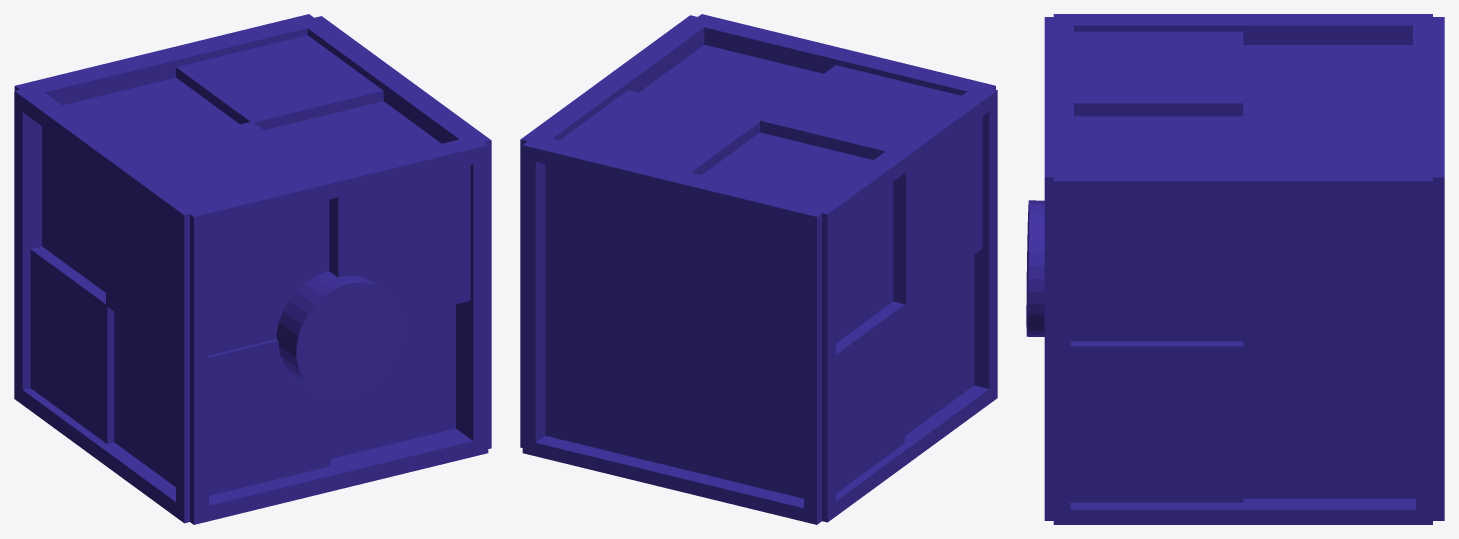
The model's file is SpaceCube.gltf.
3 views of the same model, side by side, from view 1: azimuth 30°, elevation 25°; view 2: azimuth 150°, elevation 25°; view 3: azimuth 270°, elevation 25° (orthographic). The views are drawn at different scales.
Parts seen in each view (by area): view 1: Cube; view 2: Cube; view 3: Cube.
Part boxes in pixels (x1,y1,x2,y2): Cube: [14, 14, 491, 524]; Cube: [520, 14, 997, 524]; Cube: [1026, 14, 1444, 524].
Size of the model in its own units: 2.09 by 2 by 2.2.
Materials: 1 (1 with a texture image).
